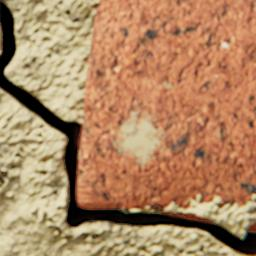brick: (76, 0, 255, 210), (165, 211, 206, 218), (248, 221, 255, 228)
crack: (0, 1, 255, 255)
